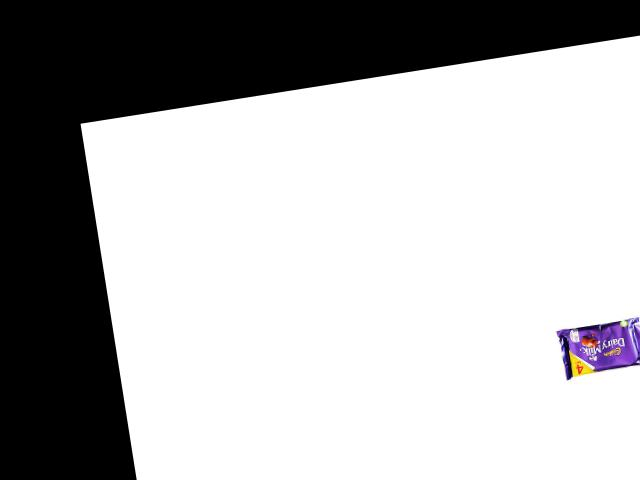chocolate: (545, 309, 640, 381)
